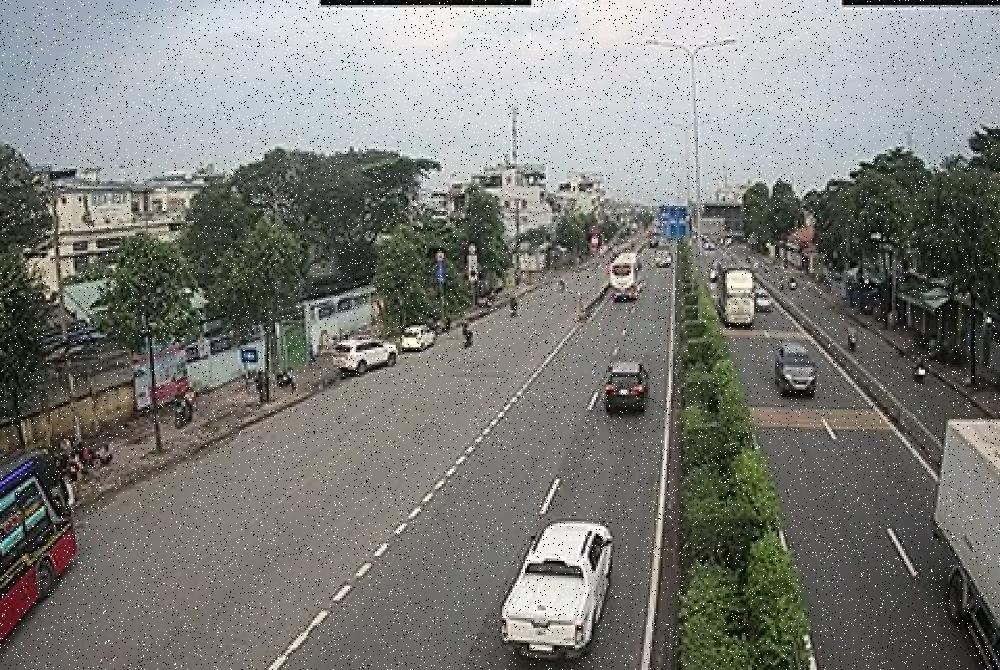bus: (0, 444, 84, 670), (607, 248, 644, 306)
car: (496, 518, 621, 670), (594, 358, 657, 420), (330, 338, 397, 377), (776, 343, 817, 399), (401, 324, 436, 352)
truck: (931, 412, 1000, 670), (719, 253, 754, 329)
